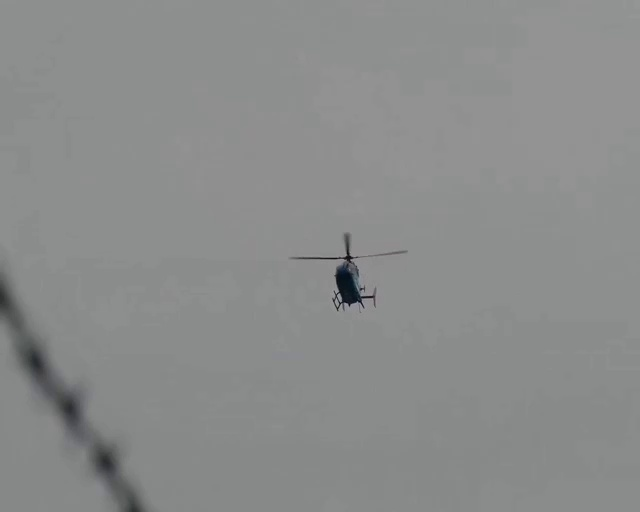HELICOPTER: (286, 232, 409, 312)
